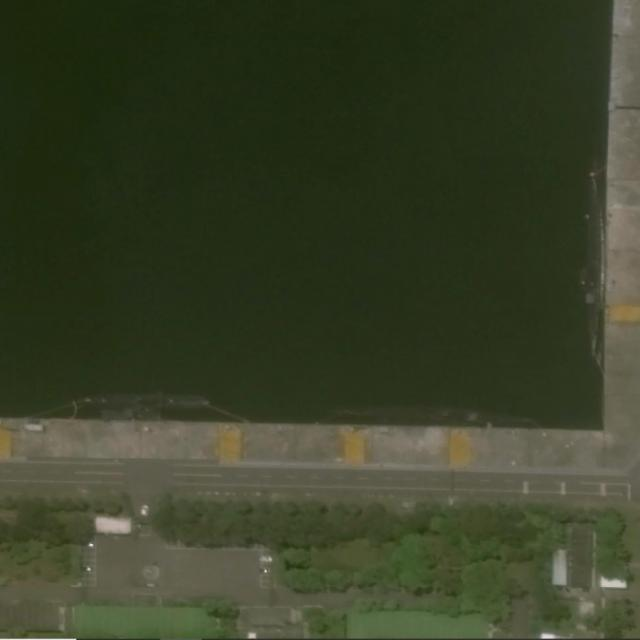Submarine: (339, 405, 531, 423), (586, 156, 603, 355), (81, 394, 209, 409)
